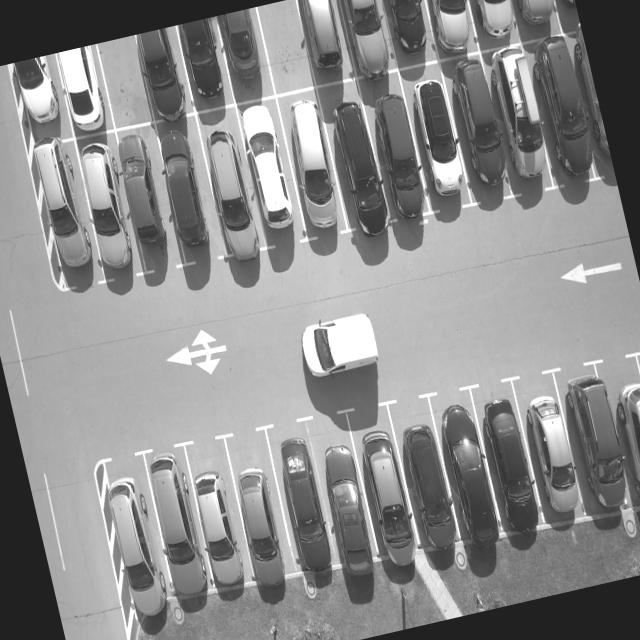car: (549, 359, 640, 538), (90, 450, 178, 632), (262, 415, 351, 587), (136, 442, 220, 612), (426, 383, 508, 557), (382, 391, 464, 564), (468, 374, 552, 542), (218, 423, 302, 591), (508, 366, 590, 536), (148, 113, 232, 278), (345, 403, 426, 571), (18, 136, 104, 293), (180, 433, 260, 600), (273, 88, 355, 250), (192, 101, 272, 266), (304, 414, 384, 578), (109, 118, 189, 280), (230, 94, 308, 256), (314, 83, 392, 239), (437, 50, 518, 200), (70, 128, 146, 286), (478, 41, 558, 191), (522, 41, 602, 190), (403, 69, 480, 218), (357, 72, 432, 223), (600, 347, 640, 537), (565, 36, 614, 176), (6, 53, 74, 147), (50, 43, 116, 139), (130, 25, 195, 120), (212, 7, 276, 102), (176, 15, 238, 110), (291, 0, 354, 85), (333, 0, 398, 81), (377, 0, 443, 67), (415, 0, 480, 57), (460, 0, 526, 52), (498, 0, 566, 45), (541, 0, 579, 31)
free: (253, 0, 320, 96), (94, 34, 158, 129)
